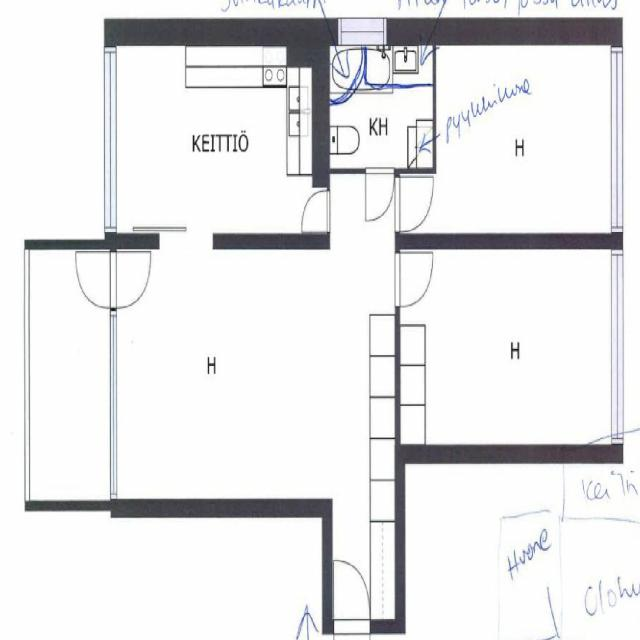door: (334, 563, 368, 633), (110, 252, 151, 308), (75, 252, 116, 308), (395, 176, 433, 232), (395, 253, 432, 305), (366, 168, 394, 220), (301, 190, 330, 231)
